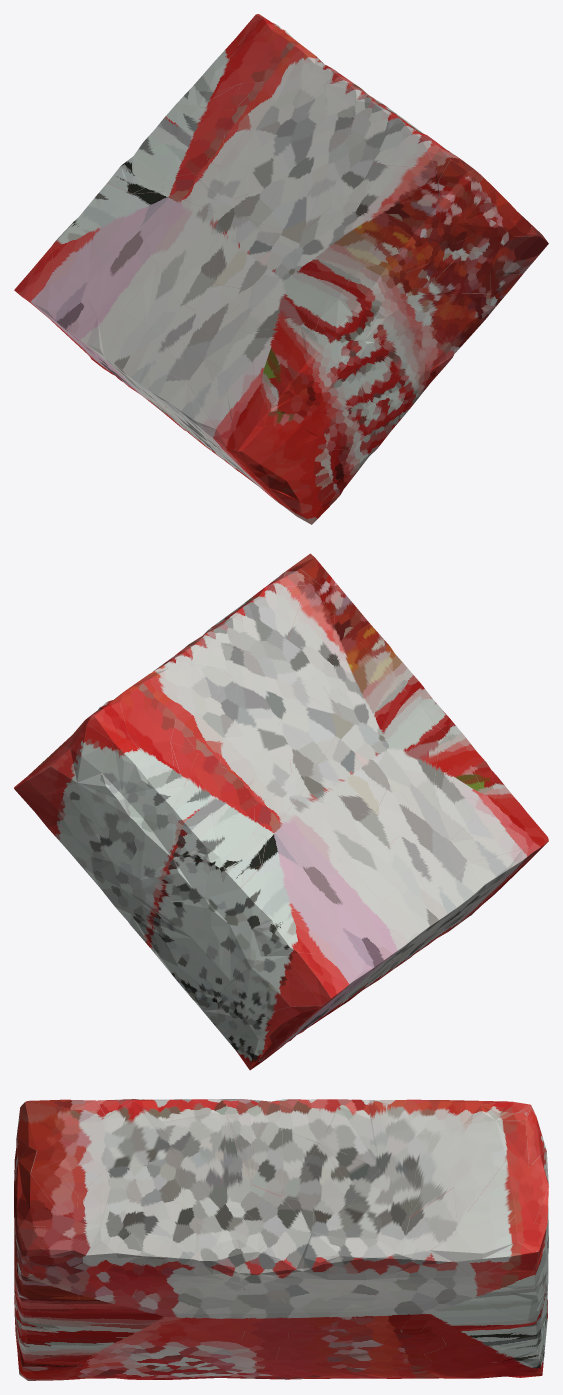
File: ycb_gelatin_box_metric_fp.obj
The picture shows the model from 3 angles, top to bottom: view 1: azimuth 30°, elevation 25°; view 2: azimuth 150°, elevation 25°; view 3: azimuth 270°, elevation 25°; orthographic projection. The views are drawn at different scales.
Size of the model in its own units: 0.0716 by 0.0679 by 0.0885.
1 material, 1 textured.
